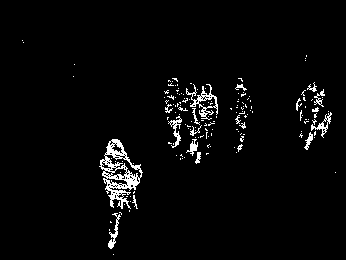person: (100, 136, 144, 250), (197, 81, 218, 165), (231, 77, 253, 155), (163, 75, 185, 149), (295, 81, 318, 145), (182, 82, 201, 157), (310, 89, 331, 153)
